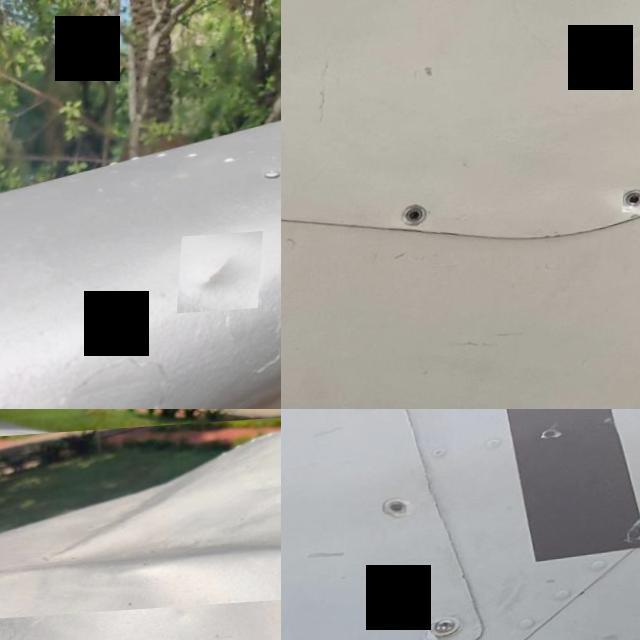Dent: (0, 418, 281, 622), (183, 236, 268, 318)
Missing_Fastener: (398, 203, 440, 237), (388, 496, 428, 526), (627, 196, 640, 220)
